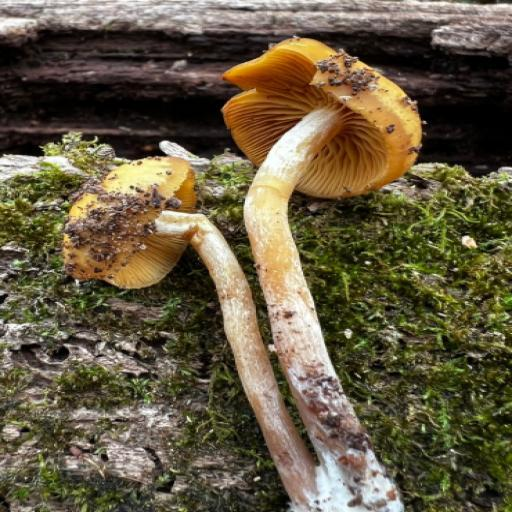mushroom: (66, 21, 416, 450)
